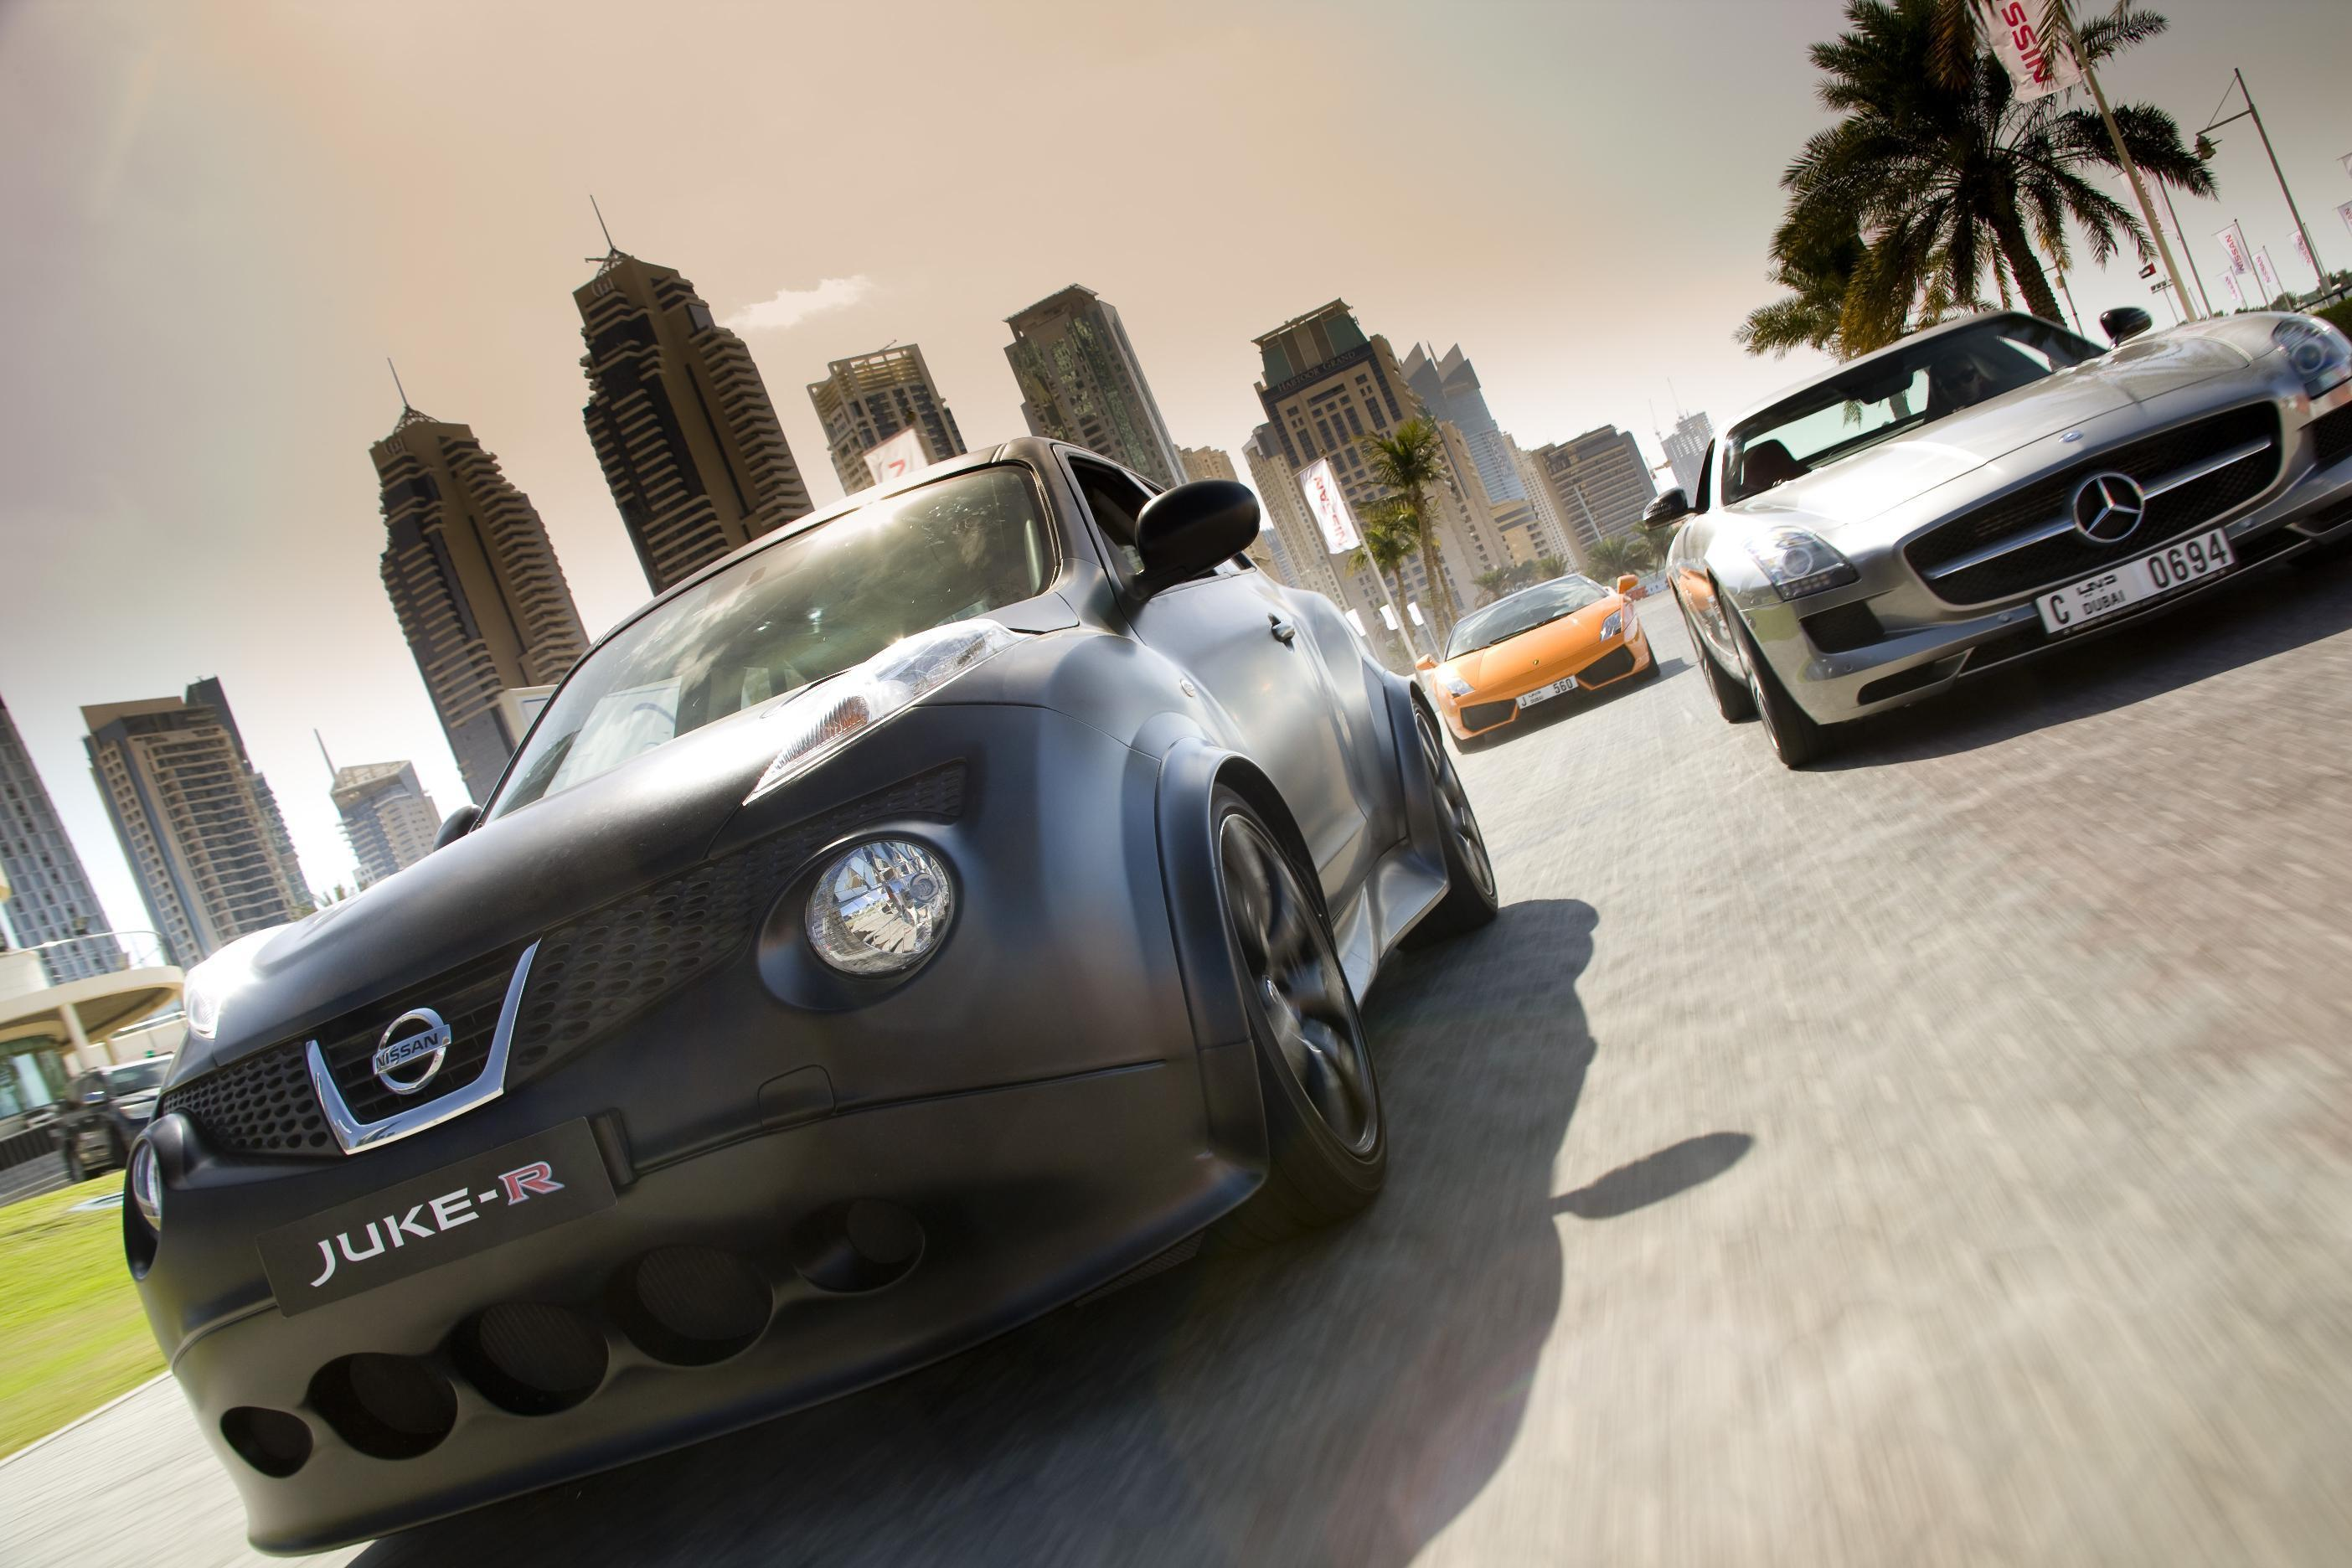car: (1647, 282, 2352, 791)
